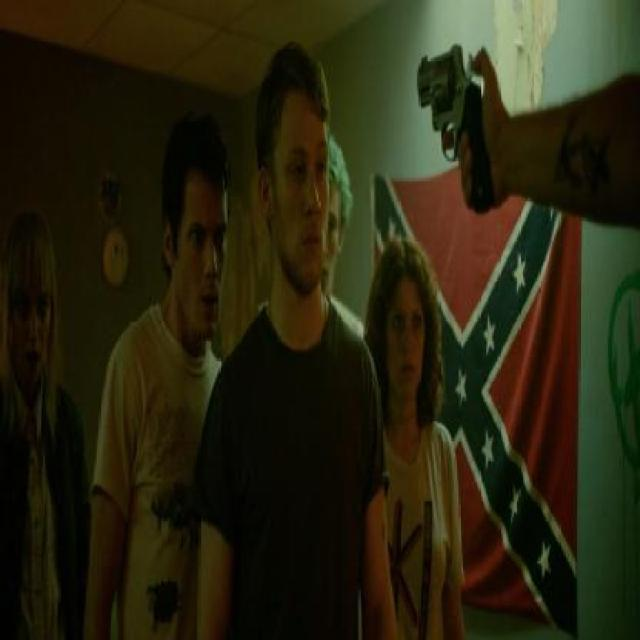gun: (418, 38, 506, 210)
